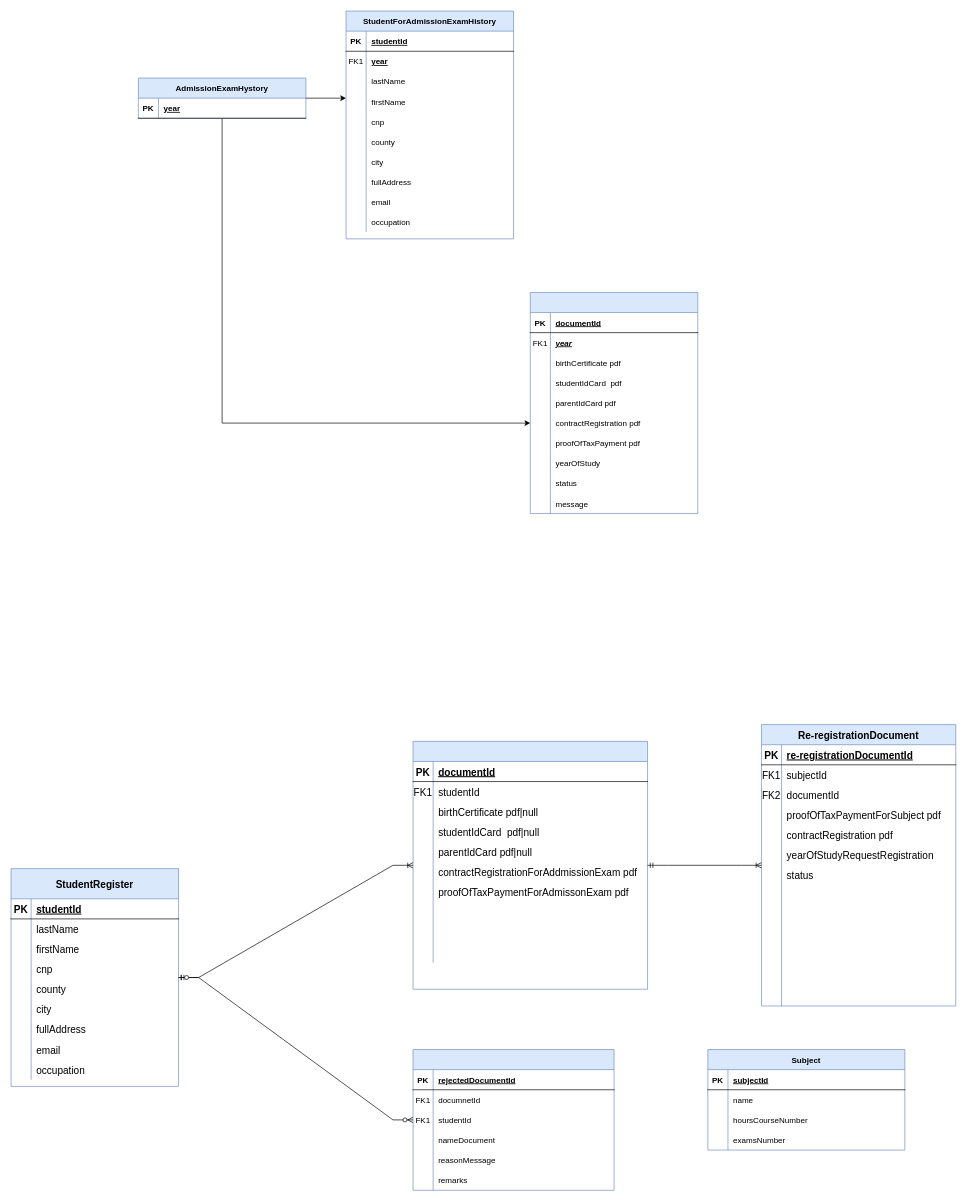
Image size: 967x1201. Some labels were removed from this diagram. Here are the shapes that lost their labels. From the top down, the box of each, then its label:
(530, 292, 698, 514): RecordedDocuments
(412, 741, 648, 989): RegistraionDocument
(412, 1049, 614, 1190): RejectedDocuments
